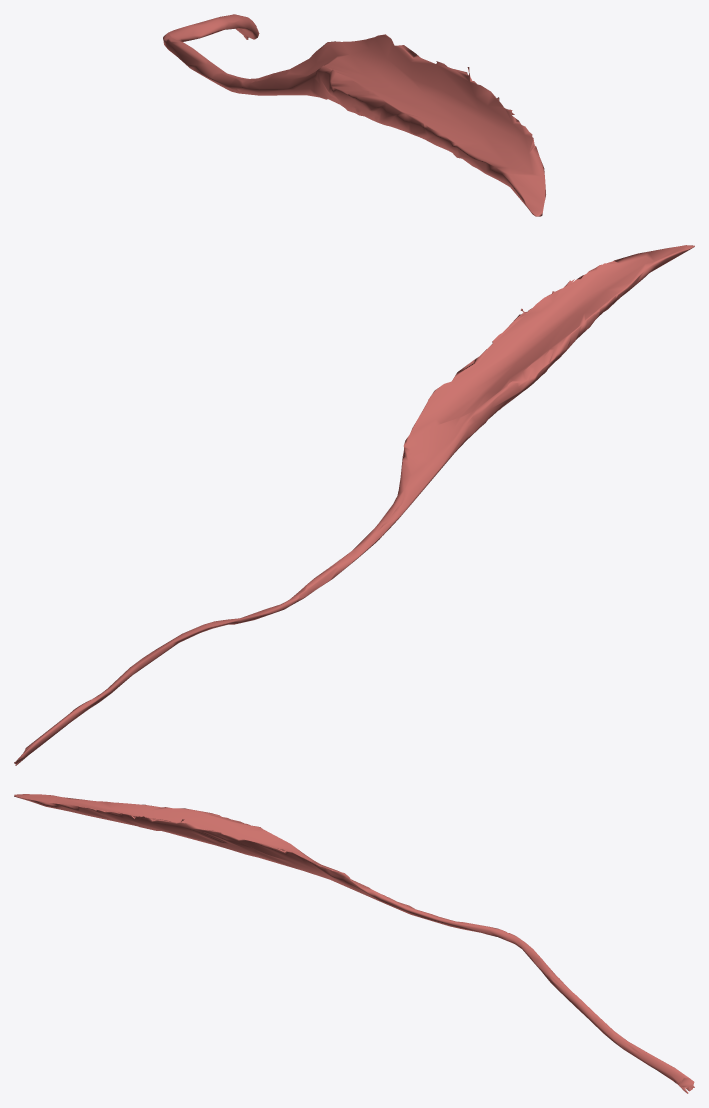
3 views of the same model, one above another, from view 1: azimuth 30°, elevation 25°; view 2: azimuth 150°, elevation 25°; view 3: azimuth 270°, elevation 25° (orthographic). The views are drawn at different scales.
Visible parts, largest first — view 1: 左侧拇长屈肌; view 2: 左侧拇长屈肌; view 3: 左侧拇长屈肌.
Part boxes in pixels (box(x1,y1,x2,y2)): 左侧拇长屈肌: box(163, 14, 545, 216); 左侧拇长屈肌: box(14, 245, 694, 765); 左侧拇长屈肌: box(14, 794, 694, 1093).
Size of the model in its own units: 0.115 by 0.1191 by 0.3509.
